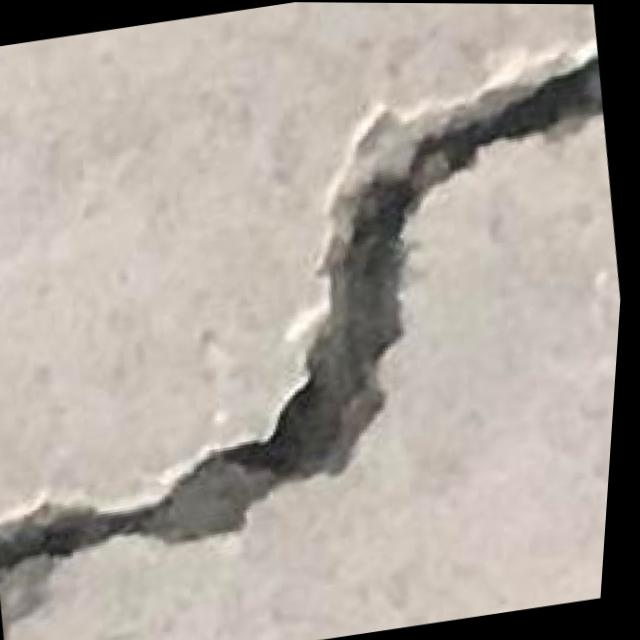Crack: (0, 21, 639, 640)
